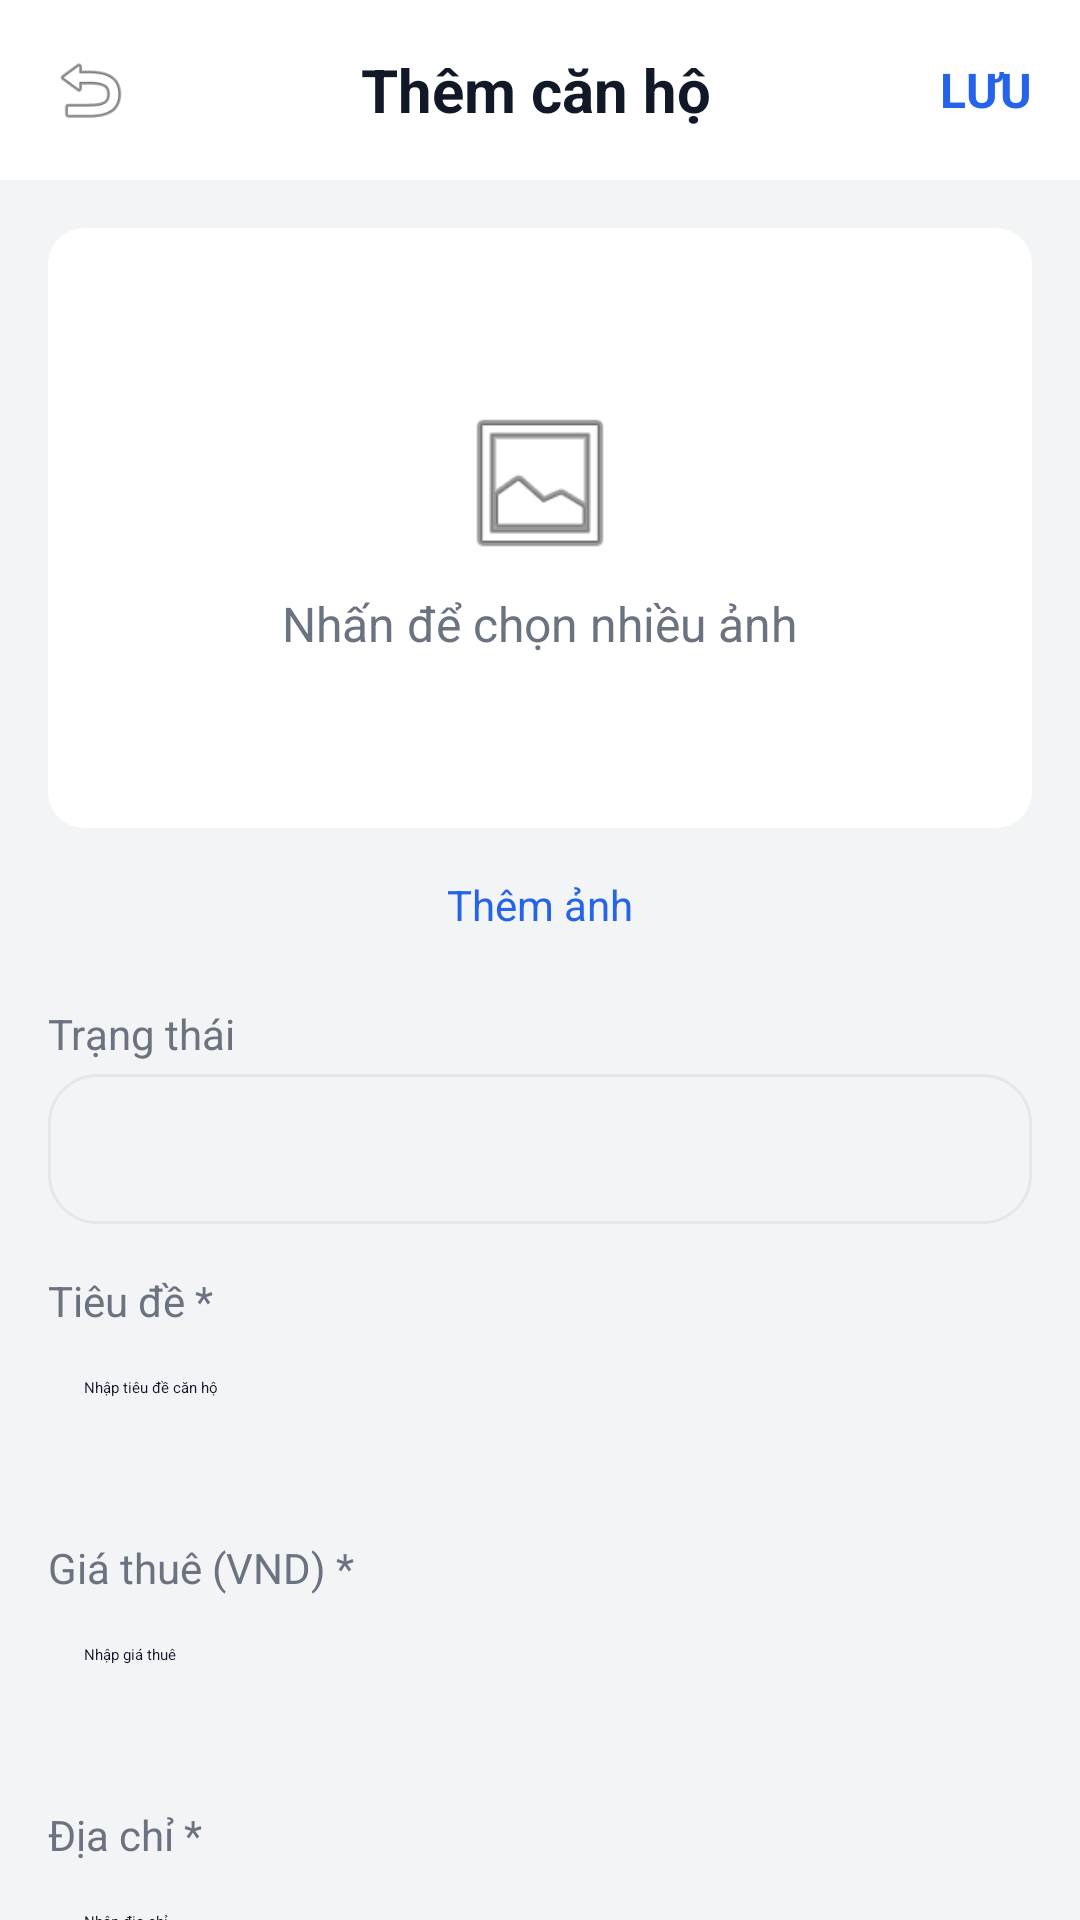

Screen size 1080px x 1920px. Icon name, then its center in pixels as (x,y):
gallery: (540,483)
revert: (91,90)
